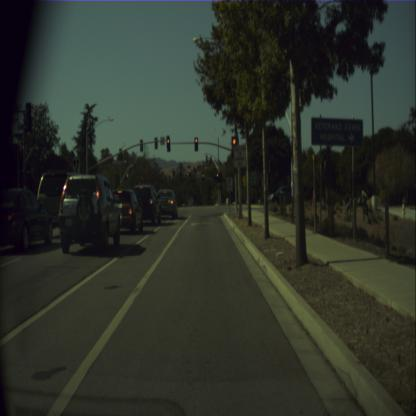Red: (166, 135, 170, 151), (194, 136, 198, 152), (232, 136, 236, 148), (216, 172, 219, 182), (172, 167, 174, 176), (188, 168, 190, 177), (202, 173, 204, 181), (180, 168, 182, 176)
